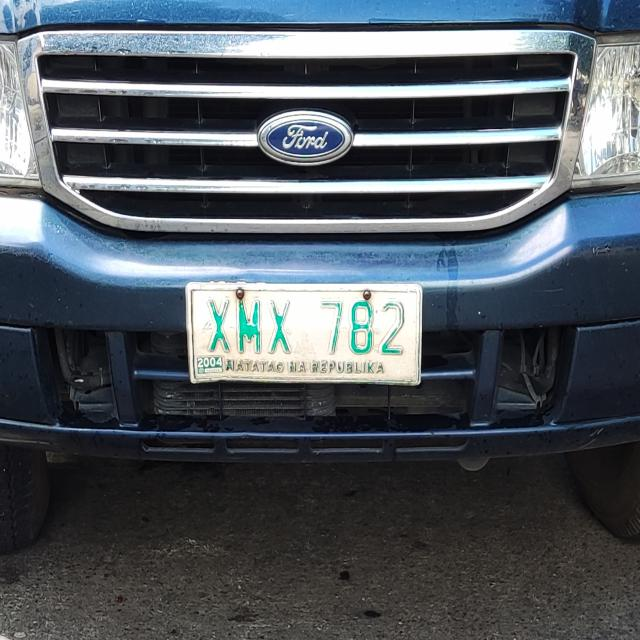plate: (182, 279, 426, 389)
